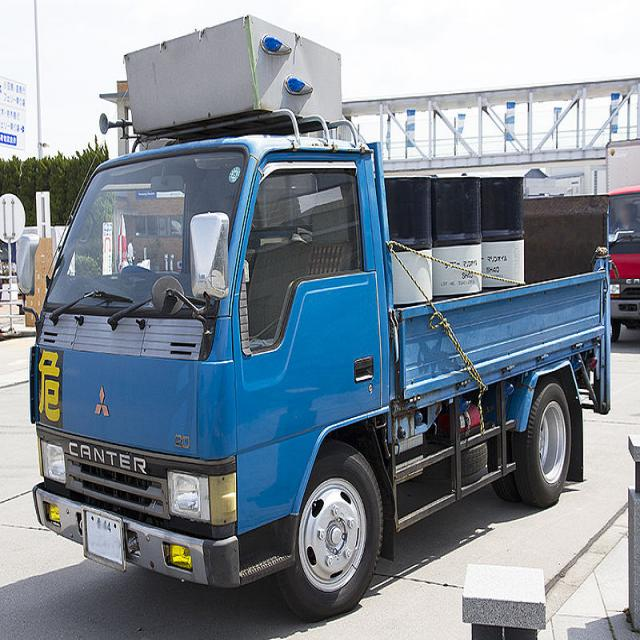truck: (15, 141, 611, 609)
